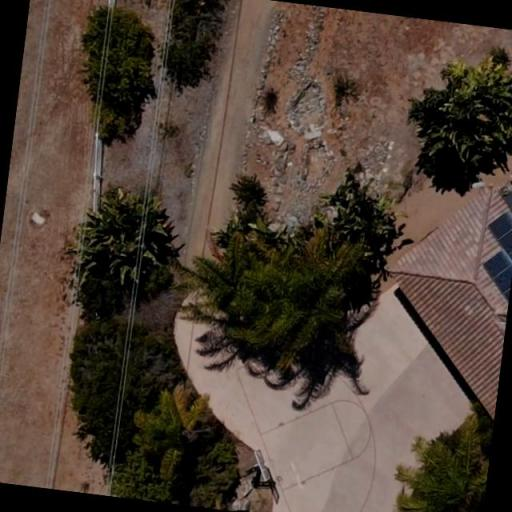solar-panel: (482, 211, 512, 304)
